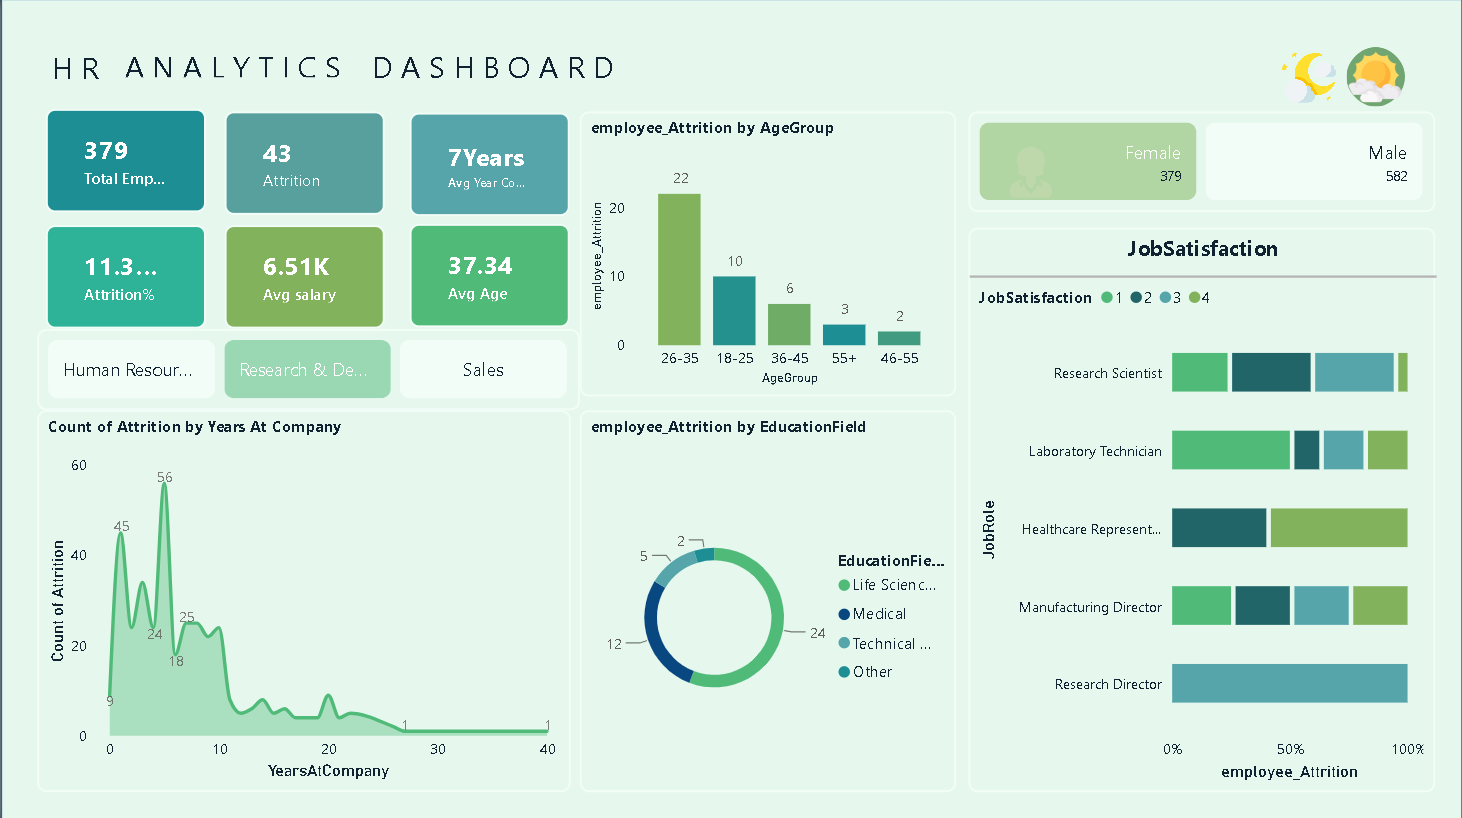

The dashboard page shown, as its layout file describes it:
{"tool":"powerbi","page":{"name":"Page 1","canvas":[1280,720],"ordinal":0},"visuals":[{"type":"shape","box":[0,0,1280,720.2],"z":0},{"type":"shape","title":"H R   ","box":[44.8,41.6,55.5,45.8],"z":0,"group":"g1"},{"type":"shape","title":" A N A L Y T I C S ","box":[108.3,41,228,27.7],"z":1000,"group":"g1"},{"type":"image","box":[1061.7,129.1,90.5,44.6],"z":1000},{"type":"shape","title":"D A S H B O A R D","box":[325.5,41,279.9,37.4],"z":2000,"group":"g1"},{"type":"image","box":[857.8,129.1,89.3,44.6],"z":2000},{"type":"advancedSlicerVisual","fields":{"Values":["HR_Analytics.Gender"]},"box":[846.9,98.9,409,88.1],"z":3000},{"type":"cardVisual","fields":{"Data":["HR_Analytics.Employee-count"]},"box":[39.8,96.5,140,90],"z":4000},{"type":"cardVisual","fields":{"Data":["HR_Analytics.employee_attration"]},"box":[195.4,98.9,140,90],"z":5000},{"type":"cardVisual","fields":{"Data":["HR_Analytics.Years_With_Text"]},"box":[358.3,100.1,140,90],"z":6000},{"type":"cardVisual","fields":{"Data":["HR_Analytics.Attrition%","HR_Analytics.Attrition%"]},"box":[39.8,197.9,140,90],"z":7000},{"type":"cardVisual","fields":{"Data":["HR_Analytics.Avg_salary"]},"box":[195.4,197.9,140,90],"z":8000},{"type":"cardVisual","fields":{"Data":["HR_Analytics.Avg_Age"]},"box":[358.3,196.6,140,90],"z":9000},{"type":"areaChart","title":"Count of Attrition by Years At Company","fields":{"Category":["HR_Analytics.YearsAtCompany"],"Y":["CountNonNull(HR_Analytics.Attrition)"]},"box":[31.4,360.7,466.9,334.2],"z":10000},{"type":"donutChart","fields":{"Category":["HR_Analytics.EducationField"],"Y":["HR_Analytics.employee_Attrition"]},"box":[506.7,360.7,329.4,334.2],"z":11000},{"type":"clusteredColumnChart","fields":{"Category":["HR_Analytics.AgeGroup"],"Y":["HR_Analytics.employee_Attrition"]},"box":[506.7,98.9,329.4,249.7],"z":12000},{"type":"hundredPercentStackedBarChart","title":"JobSatisfaction","fields":{"Category":["HR_Analytics.JobRole"],"Series":["HR_Analytics.JobSatisfaction"],"Y":["HR_Analytics.employee_Attrition"]},"box":[846.9,200.3,409,494.6],"z":13000},{"type":"advancedSlicerVisual","fields":{"Values":["HR_Analytics.Department"]},"box":[31.4,289.5,475.3,71.2],"z":14000},{"type":"advancedSlicerVisual","fields":{"Values":["Dark Mode.Label"]},"box":[1114.8,37.4,120.6,62.7],"z":15000},{"type":"group","id":"g1","title":"Group 1","box":[44.8,41,560.6,46.4],"z":16000},{"type":"shape","box":[848.1,224.4,409,37.4],"z":16001}]}

Visuals, with their boxes in screenshot pixels (x1, y1, x2, y2), scaled from the page's 1280x720 canvas onto the 1462x818 screenshot:
shape: 0, 0, 1461, 817
"H R   " shape: 51, 47, 115, 99
" A N A L Y T I C S " shape: 124, 47, 384, 78
image: 1213, 147, 1316, 197
"D A S H B O A R D" shape: 372, 47, 691, 89
image: 980, 147, 1082, 197
advancedSlicerVisual - HR_Analytics.Gender: 967, 112, 1434, 212
cardVisual - HR_Analytics.Employee-count: 45, 110, 205, 212
cardVisual - HR_Analytics.employee_attration: 223, 112, 383, 215
cardVisual - HR_Analytics.Years_With_Text: 409, 114, 569, 216
cardVisual - HR_Analytics.Attrition% x HR_Analytics.Attrition%: 45, 225, 205, 327
cardVisual - HR_Analytics.Avg_salary: 223, 225, 383, 327
cardVisual - HR_Analytics.Avg_Age: 409, 223, 569, 326
"Count of Attrition by Years At Company" areaChart: 36, 410, 569, 789
donutChart - HR_Analytics.EducationField x HR_Analytics.employee_Attrition: 579, 410, 955, 789
clusteredColumnChart - HR_Analytics.AgeGroup x HR_Analytics.employee_Attrition: 579, 112, 955, 396
"JobSatisfaction" hundredPercentStackedBarChart: 967, 228, 1434, 789
advancedSlicerVisual - HR_Analytics.Department: 36, 329, 579, 410
advancedSlicerVisual - Dark Mode.Label: 1273, 42, 1411, 114
"Group 1" group: 51, 47, 691, 99
shape: 969, 255, 1436, 297
